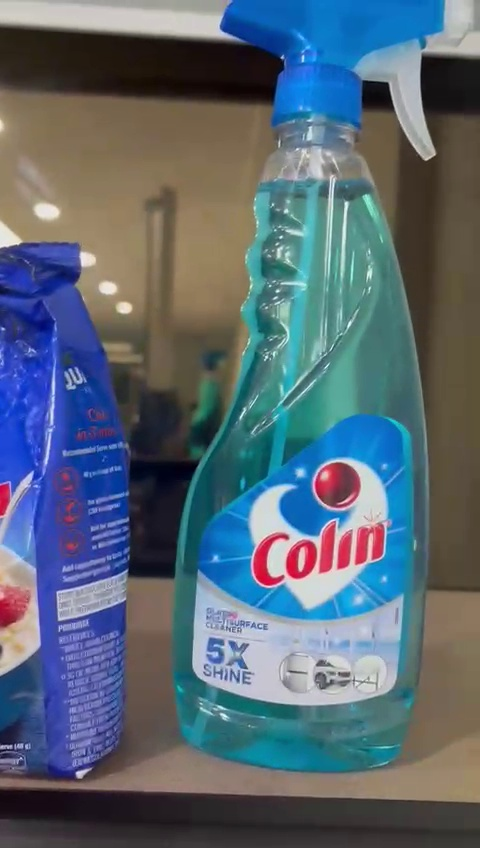Colin: (169, 6, 480, 769)
